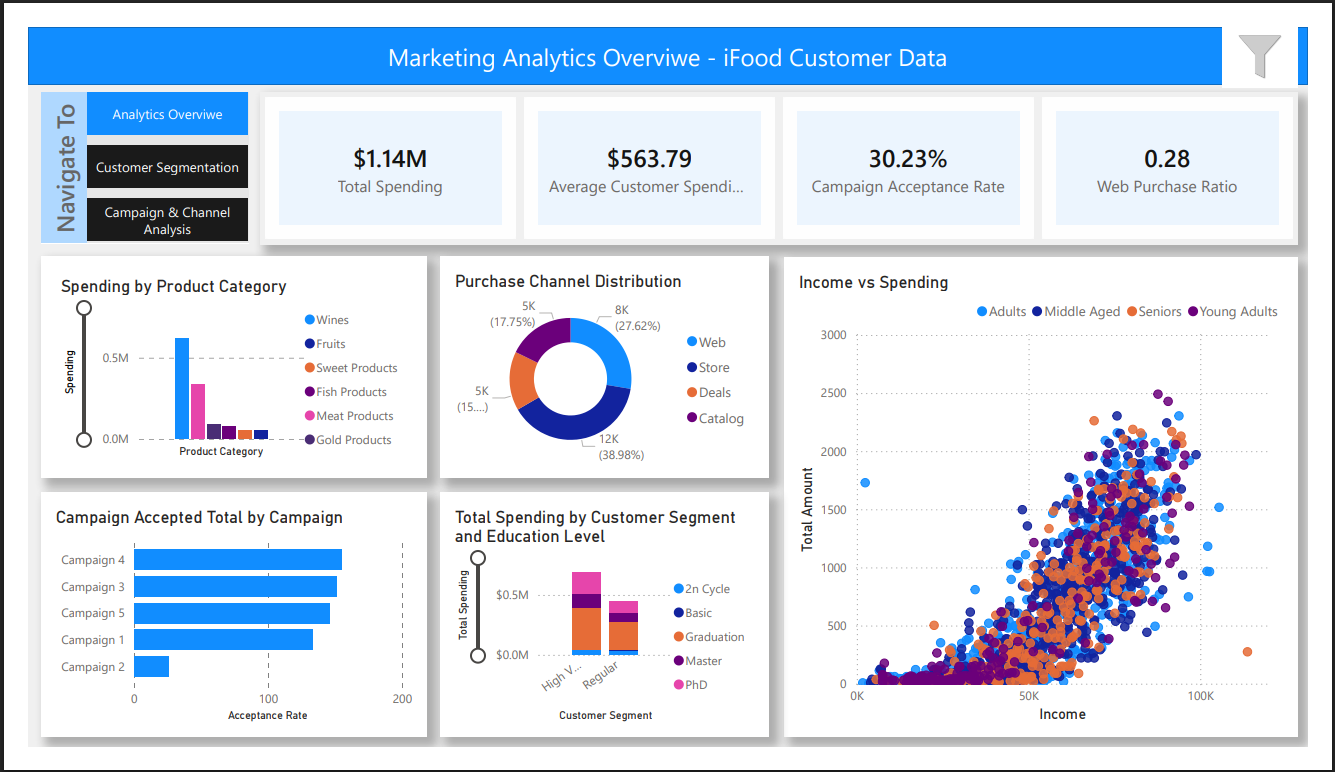

Layout of this report page (visuals, bound fields, positions):
{"tool":"powerbi","page":{"name":"Analytics Overviwe","canvas":[1280,720],"ordinal":0},"visuals":[{"type":"shape","title":"M","box":[0,0,1280,57.5],"z":0},{"type":"pageNavigator","box":[59.5,65.5,161.9,151.2],"z":0,"group":"g1"},{"type":"image","title":"Filter","box":[1194.4,0,76.5,60.6],"z":1000,"group":"g2"},{"type":"shape","box":[13.1,65.5,46.4,151.2],"z":1000,"group":"g1"},{"type":"cardVisual","fields":{"Data":["Key Measures.Total Spending","Key Measures.Average Customer Spending","Key Measures.Campaign Acceptance Rate","Key Measures.Web Purchase Ratio"]},"box":[232.1,65.5,1038.1,152.4],"z":1000},{"type":"clusteredColumnChart","title":"Spending by Product Category","fields":{"Y":["Sum(ifood_df.Wines Spending)","Sum(ifood_df.Fruits Spending)","Sum(ifood_df.Sweet Products Spending)","Sum(ifood_df.Fish Products Spending)","Sum(ifood_df.Meat Products Spending)","Sum(ifood_df.Gold Products Spending)"]},"box":[13.2,229.3,385.4,222.1],"z":2000},{"type":"donutChart","title":"Purchase Channel Distribution","fields":{"Y":["Sum(ifood_df.Web Purchases)","Sum(ifood_df.Store Purchases)","Sum(ifood_df.Deals Purchases)","Sum(ifood_df.Catalog Purchases)"]},"box":[411.9,229.3,329,222.1],"z":3000},{"type":"scatterChart","title":"Income vs Spending","fields":{"X":["ifood_df.Income"],"Y":["ifood_df.Total Amount"],"Series":["ifood_df.Age Group"]},"box":[756,229.8,514.3,479.8],"z":4000},{"type":"clusteredBarChart","fields":{"Category":["CampaignLabels.Campaign"],"Y":["ifood_df.Campaign Accepted Total"]},"box":[13.2,464.7,385.4,245],"z":5000},{"type":"columnChart","fields":{"Category":["ifood_df.Customer Segment"],"Y":["Key Measures.Total Spending"],"Series":["ifood_df.Education Level"]},"box":[411.9,464.7,329,245],"z":6000},{"type":"group","id":"g1","title":"Group 1","box":[13.1,65.5,208.3,151.2],"z":7000},{"type":"group","id":"g2","title":"Slicer Pannel","box":[576.5,0,694.5,574.7],"z":8000}]}

Visuals, with their boxes in screenshot pixels (x1, y1, x2, y2), scaled from the page's 1280x720 canvas onto the 1335x772 screenshot:
"M" shape: <bbox>0, 0, 1334, 62</bbox>
pageNavigator: <bbox>62, 70, 231, 232</bbox>
"Filter" image: <bbox>1246, 0, 1326, 65</bbox>
shape: <bbox>14, 70, 62, 232</bbox>
cardVisual - Key Measures.Total Spending x Key Measures.Average Customer Spending: <bbox>242, 70, 1325, 234</bbox>
"Spending by Product Category" clusteredColumnChart: <bbox>14, 246, 416, 484</bbox>
"Purchase Channel Distribution" donutChart: <bbox>430, 246, 773, 484</bbox>
"Income vs Spending" scatterChart: <bbox>788, 246, 1325, 761</bbox>
clusteredBarChart - CampaignLabels.Campaign x ifood_df.Campaign Accepted Total: <bbox>14, 498, 416, 761</bbox>
columnChart - ifood_df.Customer Segment x Key Measures.Total Spending: <bbox>430, 498, 773, 761</bbox>
"Group 1" group: <bbox>14, 70, 231, 232</bbox>
"Slicer Pannel" group: <bbox>601, 0, 1326, 616</bbox>
